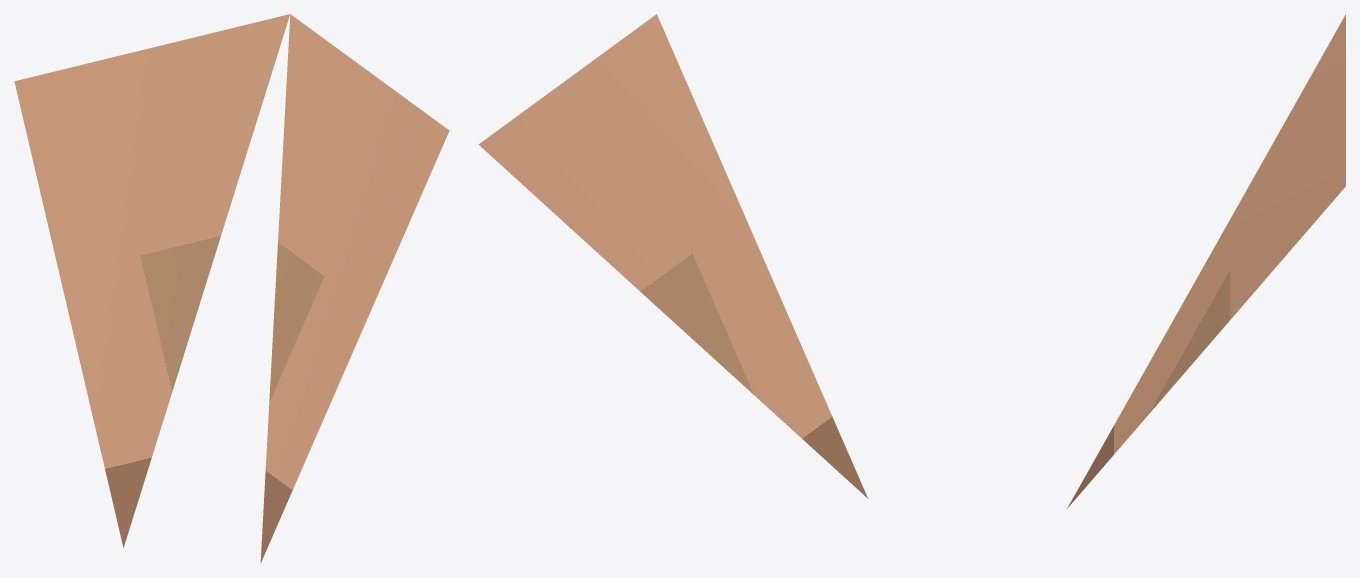
3 renders of one model, left to right at view 1: azimuth 30°, elevation 25°; view 2: azimuth 150°, elevation 25°; view 3: azimuth 270°, elevation 25°, orthographic. The views are drawn at different scales.
Size of the model in its own units: 0.1699 by 0.2279 by 0.1699.
Materials: 1 (1 with a texture image).
